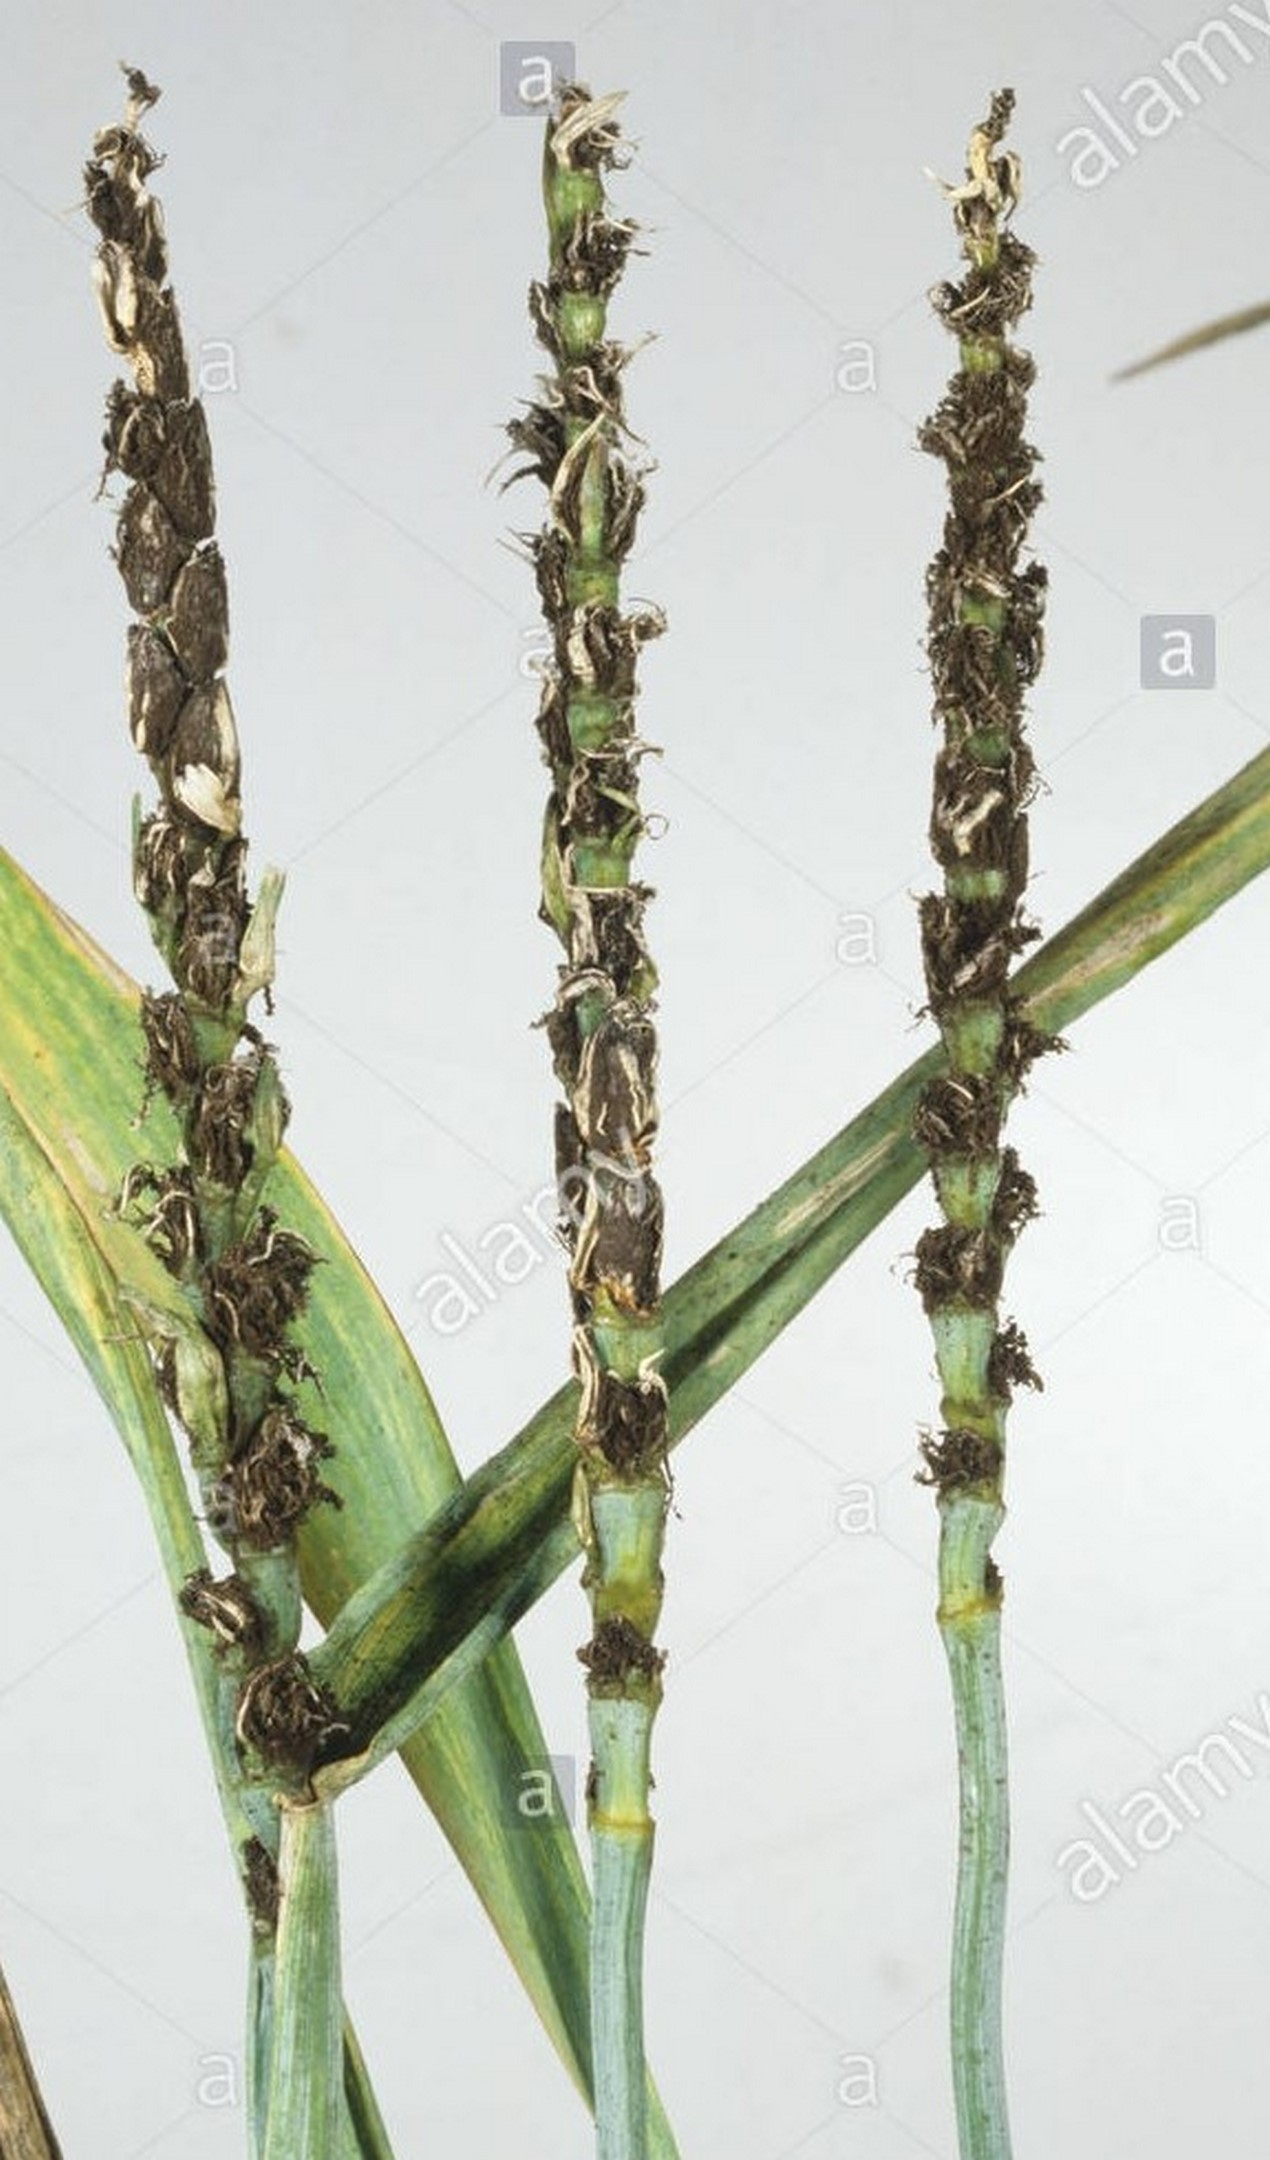Wheat Loose Smut: (54, 89, 378, 1676), (478, 89, 751, 1574), (871, 110, 1073, 1567)
